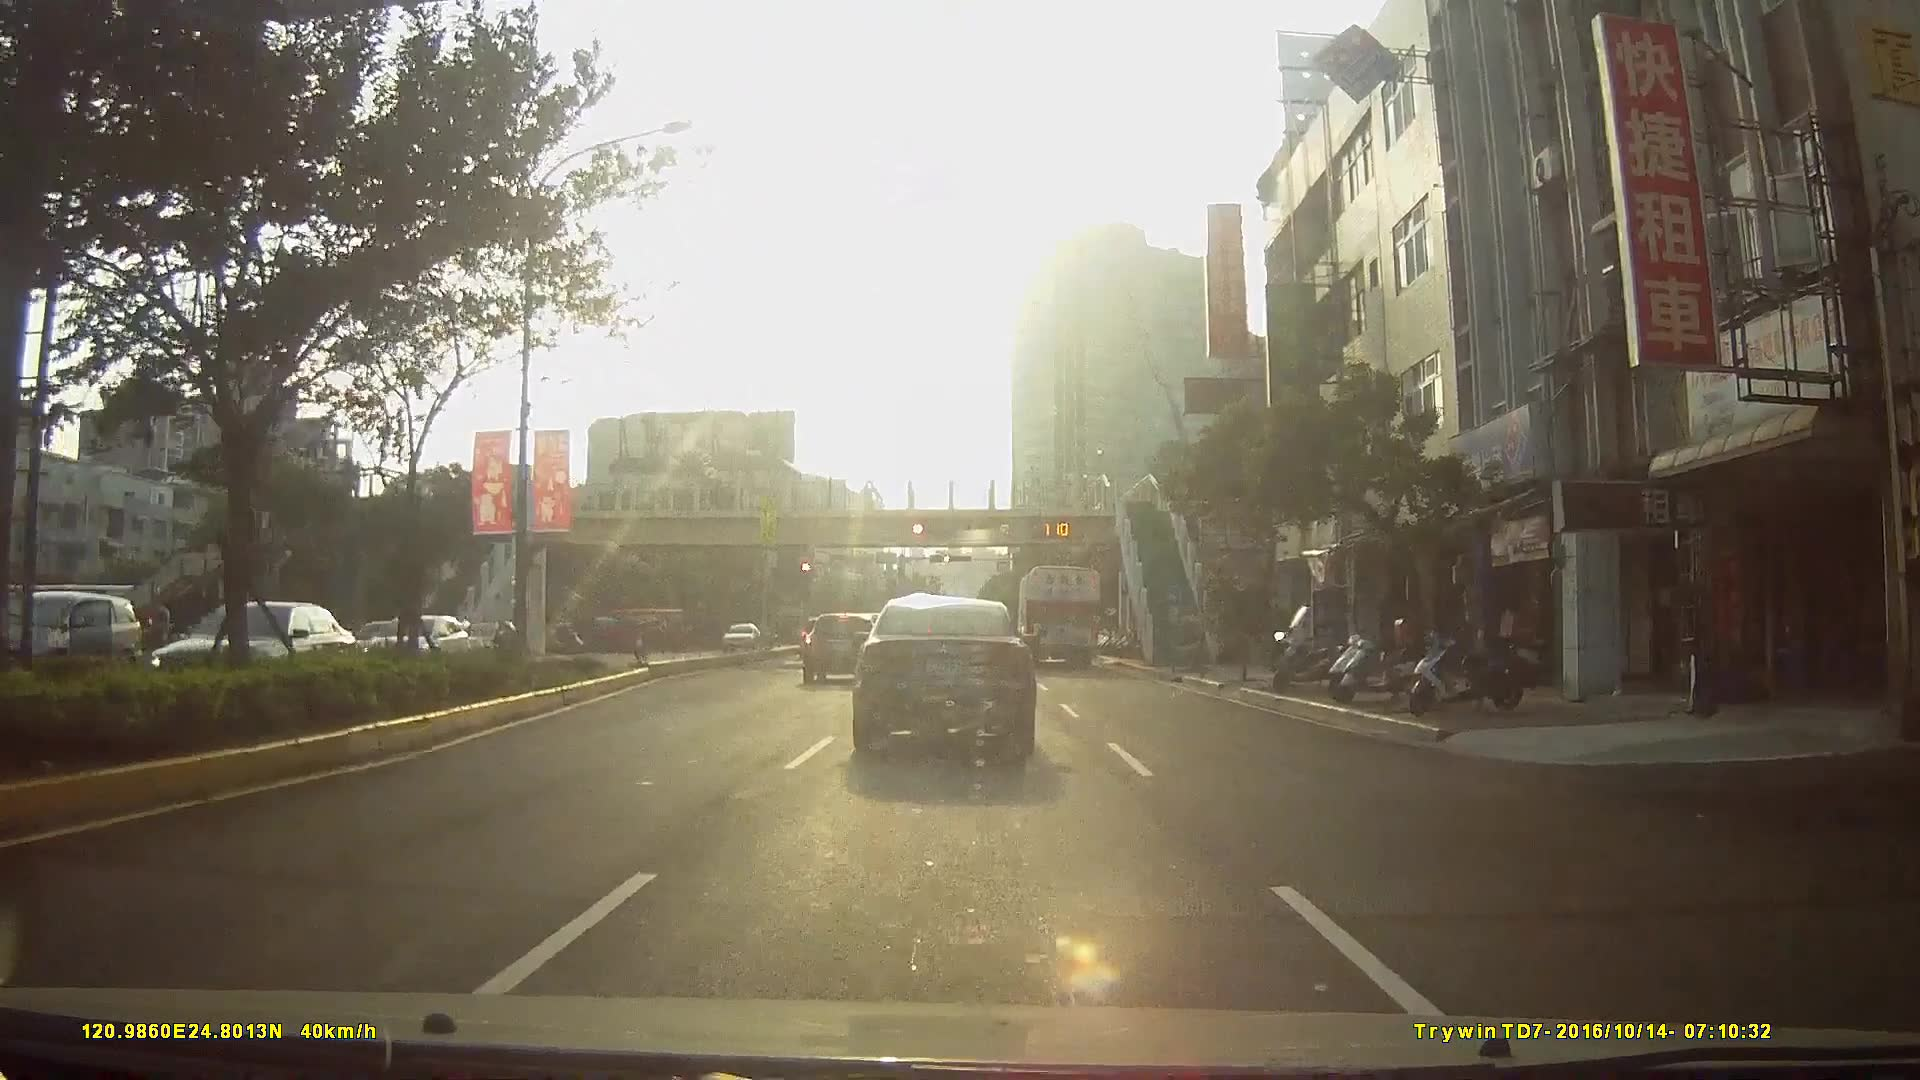vehicle: (849, 593, 1036, 753), (0, 589, 136, 671), (1014, 560, 1105, 669), (799, 611, 880, 687), (717, 618, 760, 650)
